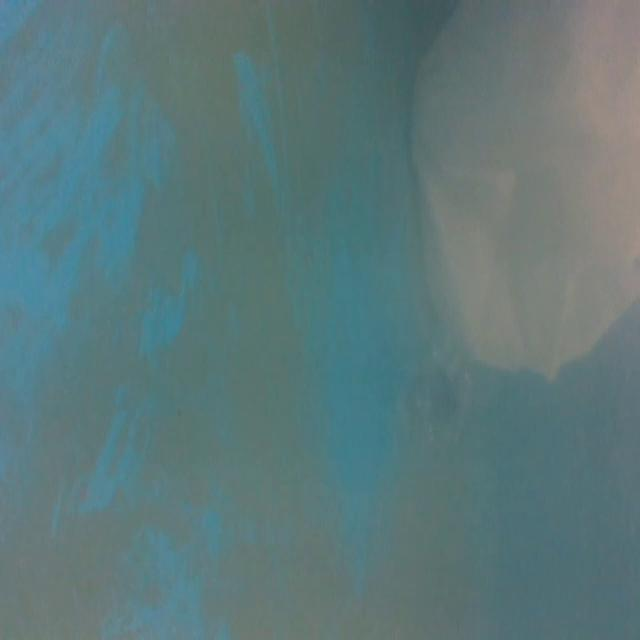plastic bags: (406, 1, 640, 392)
